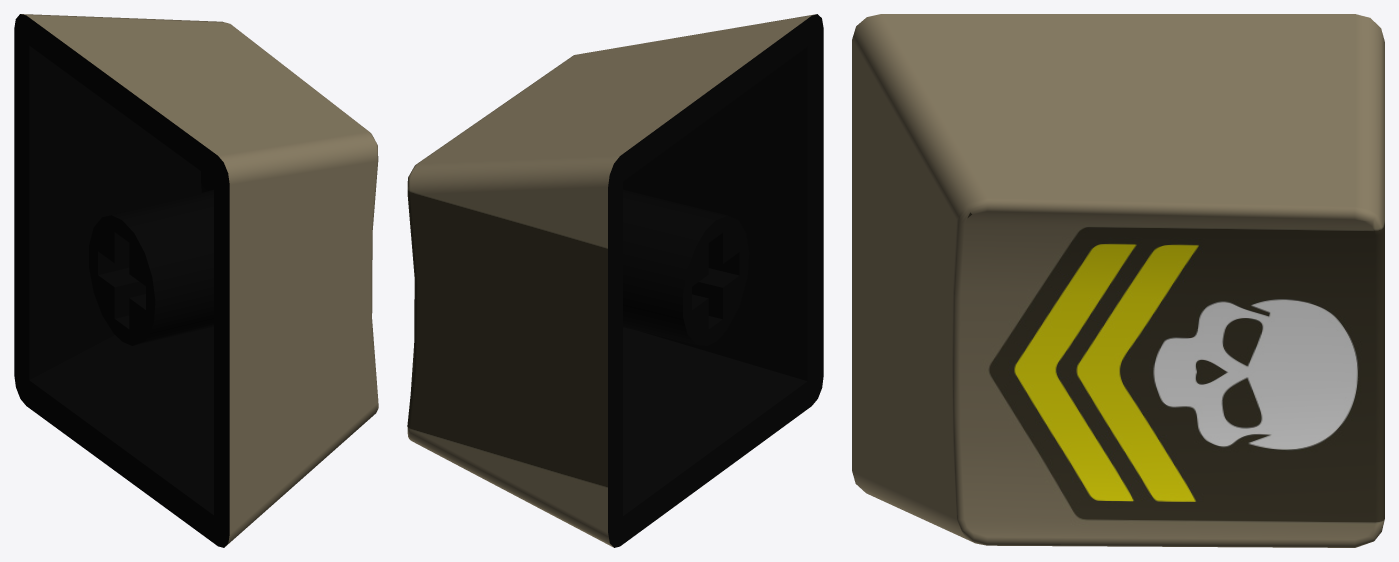
The model's file is key1.fbx.
The picture shows the model from 3 angles, left to right: view 1: azimuth 30°, elevation 25°; view 2: azimuth 150°, elevation 25°; view 3: azimuth 270°, elevation 25°; orthographic projection. The views are drawn at different scales.
Visible parts, largest first — view 1: 1x1_R4_v6_1; view 2: 1x1_R4_v6_1; view 3: 1x1_R4_v6_1.
Boxes of the visible parts, bbox=[...] form: 1x1_R4_v6_1: bbox=[14, 14, 378, 547]; 1x1_R4_v6_1: bbox=[407, 14, 823, 547]; 1x1_R4_v6_1: bbox=[852, 14, 1384, 547].
Size of the model in its own units: 9.95 by 18 by 18.
Materials: 2 (1 with a texture image).
